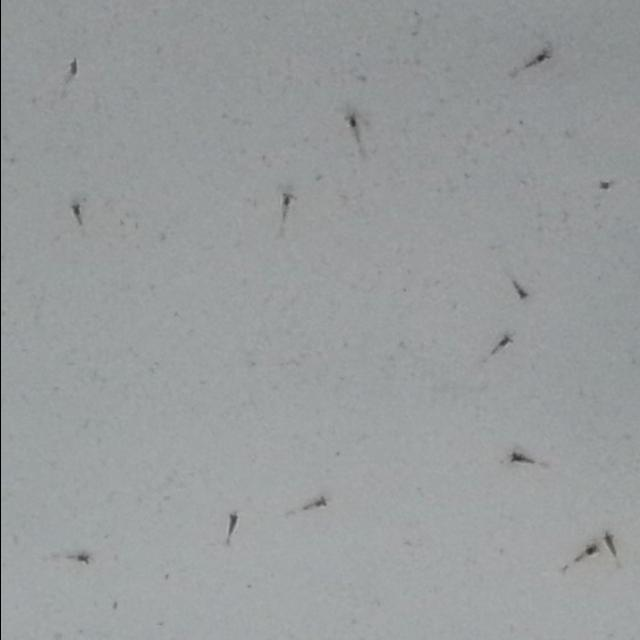shrimp-seed: (62, 196, 88, 230), (300, 491, 334, 516), (525, 41, 551, 69), (502, 448, 533, 470), (222, 510, 244, 539), (57, 56, 83, 80), (339, 110, 361, 137), (63, 544, 89, 566), (277, 188, 294, 220), (600, 531, 622, 555), (508, 280, 530, 302), (576, 540, 598, 562), (492, 334, 514, 354)
